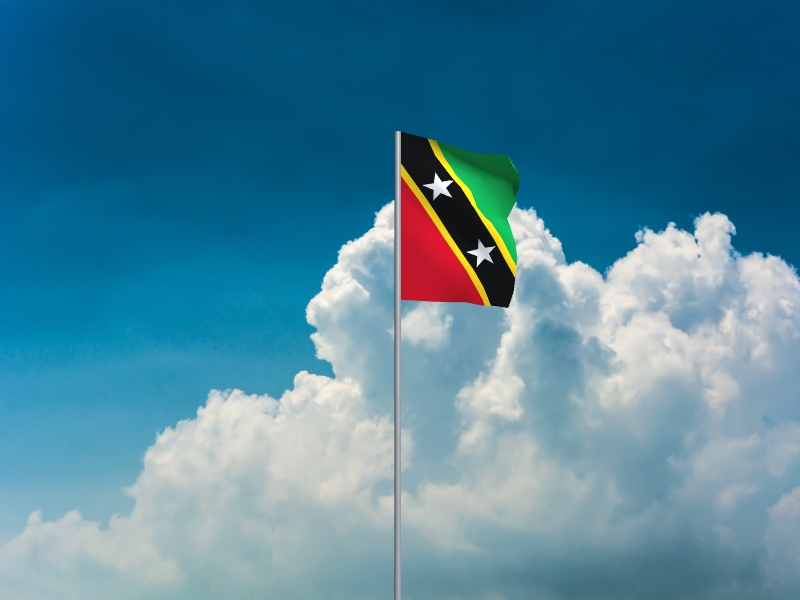kn: (402, 132, 522, 309)
